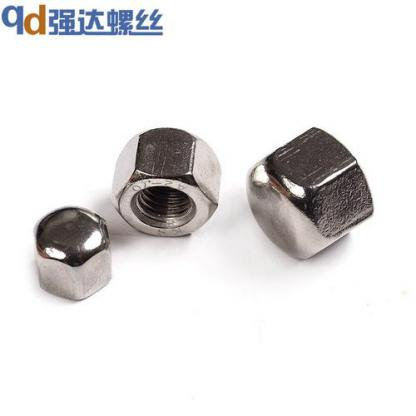FOD: (244, 124, 379, 262), (109, 124, 224, 240), (35, 204, 113, 304)
